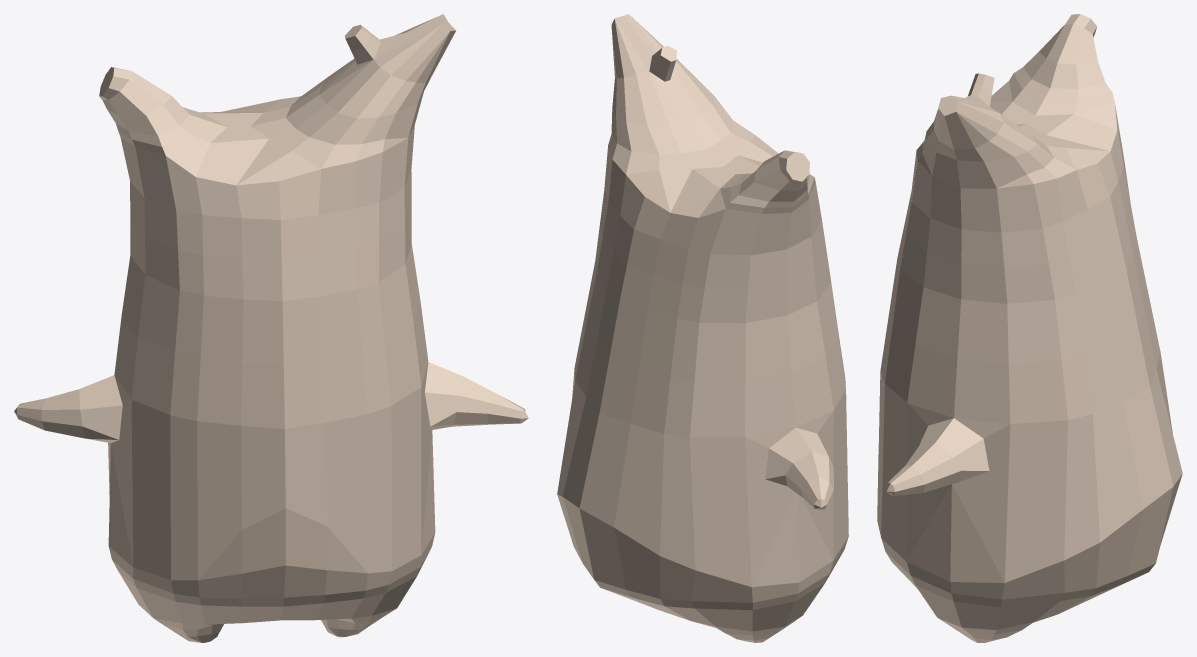
Rendered from frame_0081.obj.
3 renders of one model, left to right at view 1: azimuth 30°, elevation 25°; view 2: azimuth 150°, elevation 25°; view 3: azimuth 270°, elevation 25°, orthographic. The views are drawn at different scales.
Visible parts, largest first — view 1: korok; view 2: korok; view 3: korok.
Part boxes in pixels (<box>): korok: <box>14,14,528,642</box>; korok: <box>557,14,848,642</box>; korok: <box>877,14,1182,642</box>.
Bounding box in the file's own units: 1.4 × 2.16 × 1.03.
